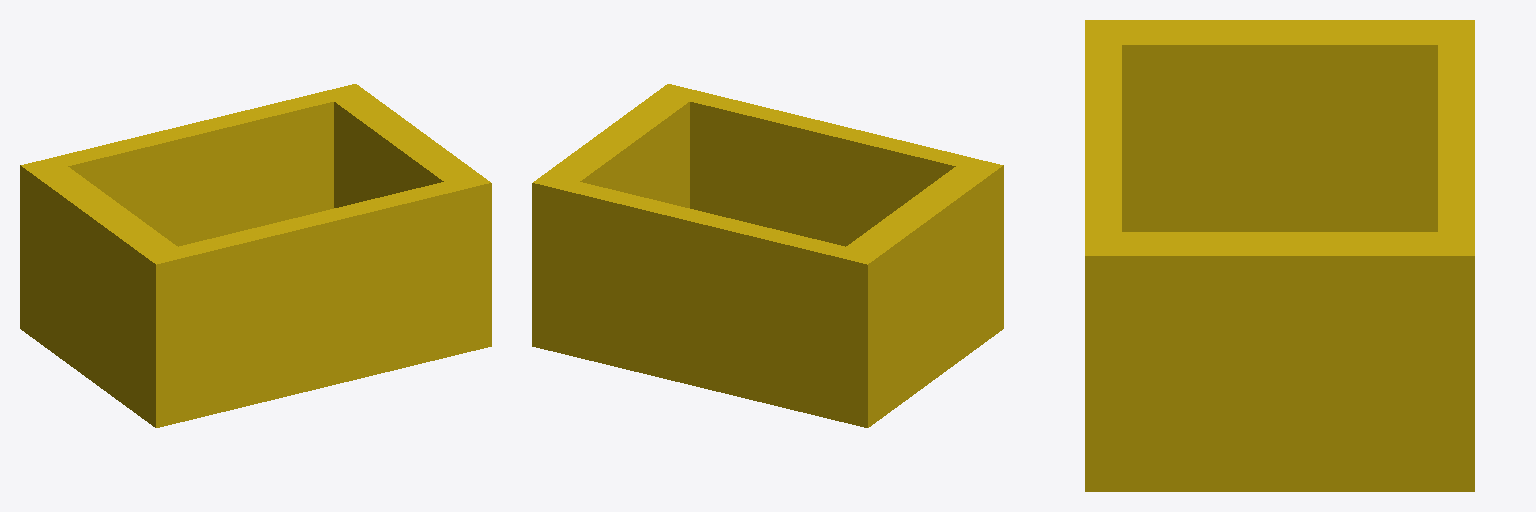
URDF robot description (yellow_tote):
<?xml version="1.0" ?>
<robot name="yellow_tote">
  <link name="tote_link">
    <inertial>
      <mass value="1.0"/>
      <inertia ixx="0.05" ixy="0.0" ixz="0.0" iyy="0.05" iyz="0.0" izz="0.05"/>
    </inertial>
    <!-- Floor -->
    <visual>
      <origin rpy="0 0 0" xyz="0.003 -0.05 0.005"/>
      <geometry><box size="0.6 0.38 0.01"/></geometry>
      <material name="yellow"><color rgba="0.85 0.73 0.1 1.0"/></material>
    </visual>
    <collision>
      <origin rpy="0 0 0" xyz="0.003 -0.05 0.005"/>
      <geometry><box size="0.6 0.38 0.01"/></geometry>
    </collision>
    <!-- Front wall -->
    <visual>
      <origin rpy="0 0 0" xyz="0.003 -0.24 0.14"/>
      <geometry><box size="0.6 0.04 0.28"/></geometry>
      <material name="yellow"><color rgba="0.85 0.73 0.1 1.0"/></material>
    </visual>
    <collision>
      <origin rpy="0 0 0" xyz="0.003 -0.24 0.14"/>
      <geometry><box size="0.6 0.04 0.28"/></geometry>
    </collision>
    <!-- Back wall -->
    <visual>
      <origin rpy="0 0 0" xyz="0.003 0.14 0.14"/>
      <geometry><box size="0.6 0.04 0.28"/></geometry>
      <material name="yellow"><color rgba="0.85 0.73 0.1 1.0"/></material>
    </visual>
    <collision>
      <origin rpy="0 0 0" xyz="0.003 0.14 0.14"/>
      <geometry><box size="0.6 0.04 0.28"/></geometry>
    </collision>
    <!-- Right wall -->
    <visual>
      <origin rpy="0 0 0" xyz="0.272 -0.05 0.14"/>
      <geometry><box size="0.062 0.34 0.28"/></geometry>
      <material name="yellow"><color rgba="0.85 0.73 0.1 1.0"/></material>
    </visual>
    <collision>
      <origin rpy="0 0 0" xyz="0.272 -0.05 0.14"/>
      <geometry><box size="0.062 0.34 0.28"/></geometry>
    </collision>
    <!-- Left wall -->
    <visual>
      <origin rpy="0 0 0" xyz="-0.266 -0.05 0.14"/>
      <geometry><box size="0.062 0.34 0.28"/></geometry>
      <material name="yellow"><color rgba="0.85 0.73 0.1 1.0"/></material>
    </visual>
    <collision>
      <origin rpy="0 0 0" xyz="-0.266 -0.05 0.14"/>
      <geometry><box size="0.062 0.34 0.28"/></geometry>
    </collision>
  </link>
</robot>

--- Render facts (derived) ---
The picture shows the robot from 3 angles, left to right: view 1: azimuth 30°, elevation 25°; view 2: azimuth 150°, elevation 25°; view 3: azimuth 270°, elevation 25°; orthographic projection.
Robot: yellow_tote — 1 links, 0 joints (none); root link tote_link; default pose: all joints at 0.
Links seen in each view (by area): view 1: tote_link; view 2: tote_link; view 3: tote_link.
Boxes of the visible links, <box> form: tote_link: <box>20,84,491,427</box>; tote_link: <box>532,84,1003,427</box>; tote_link: <box>1085,20,1474,491</box>.
Size in the robot's own frame: 0.6 by 0.42 by 0.28 metres.
Geometry: primitives only (box / cylinder / sphere), no mesh files.
